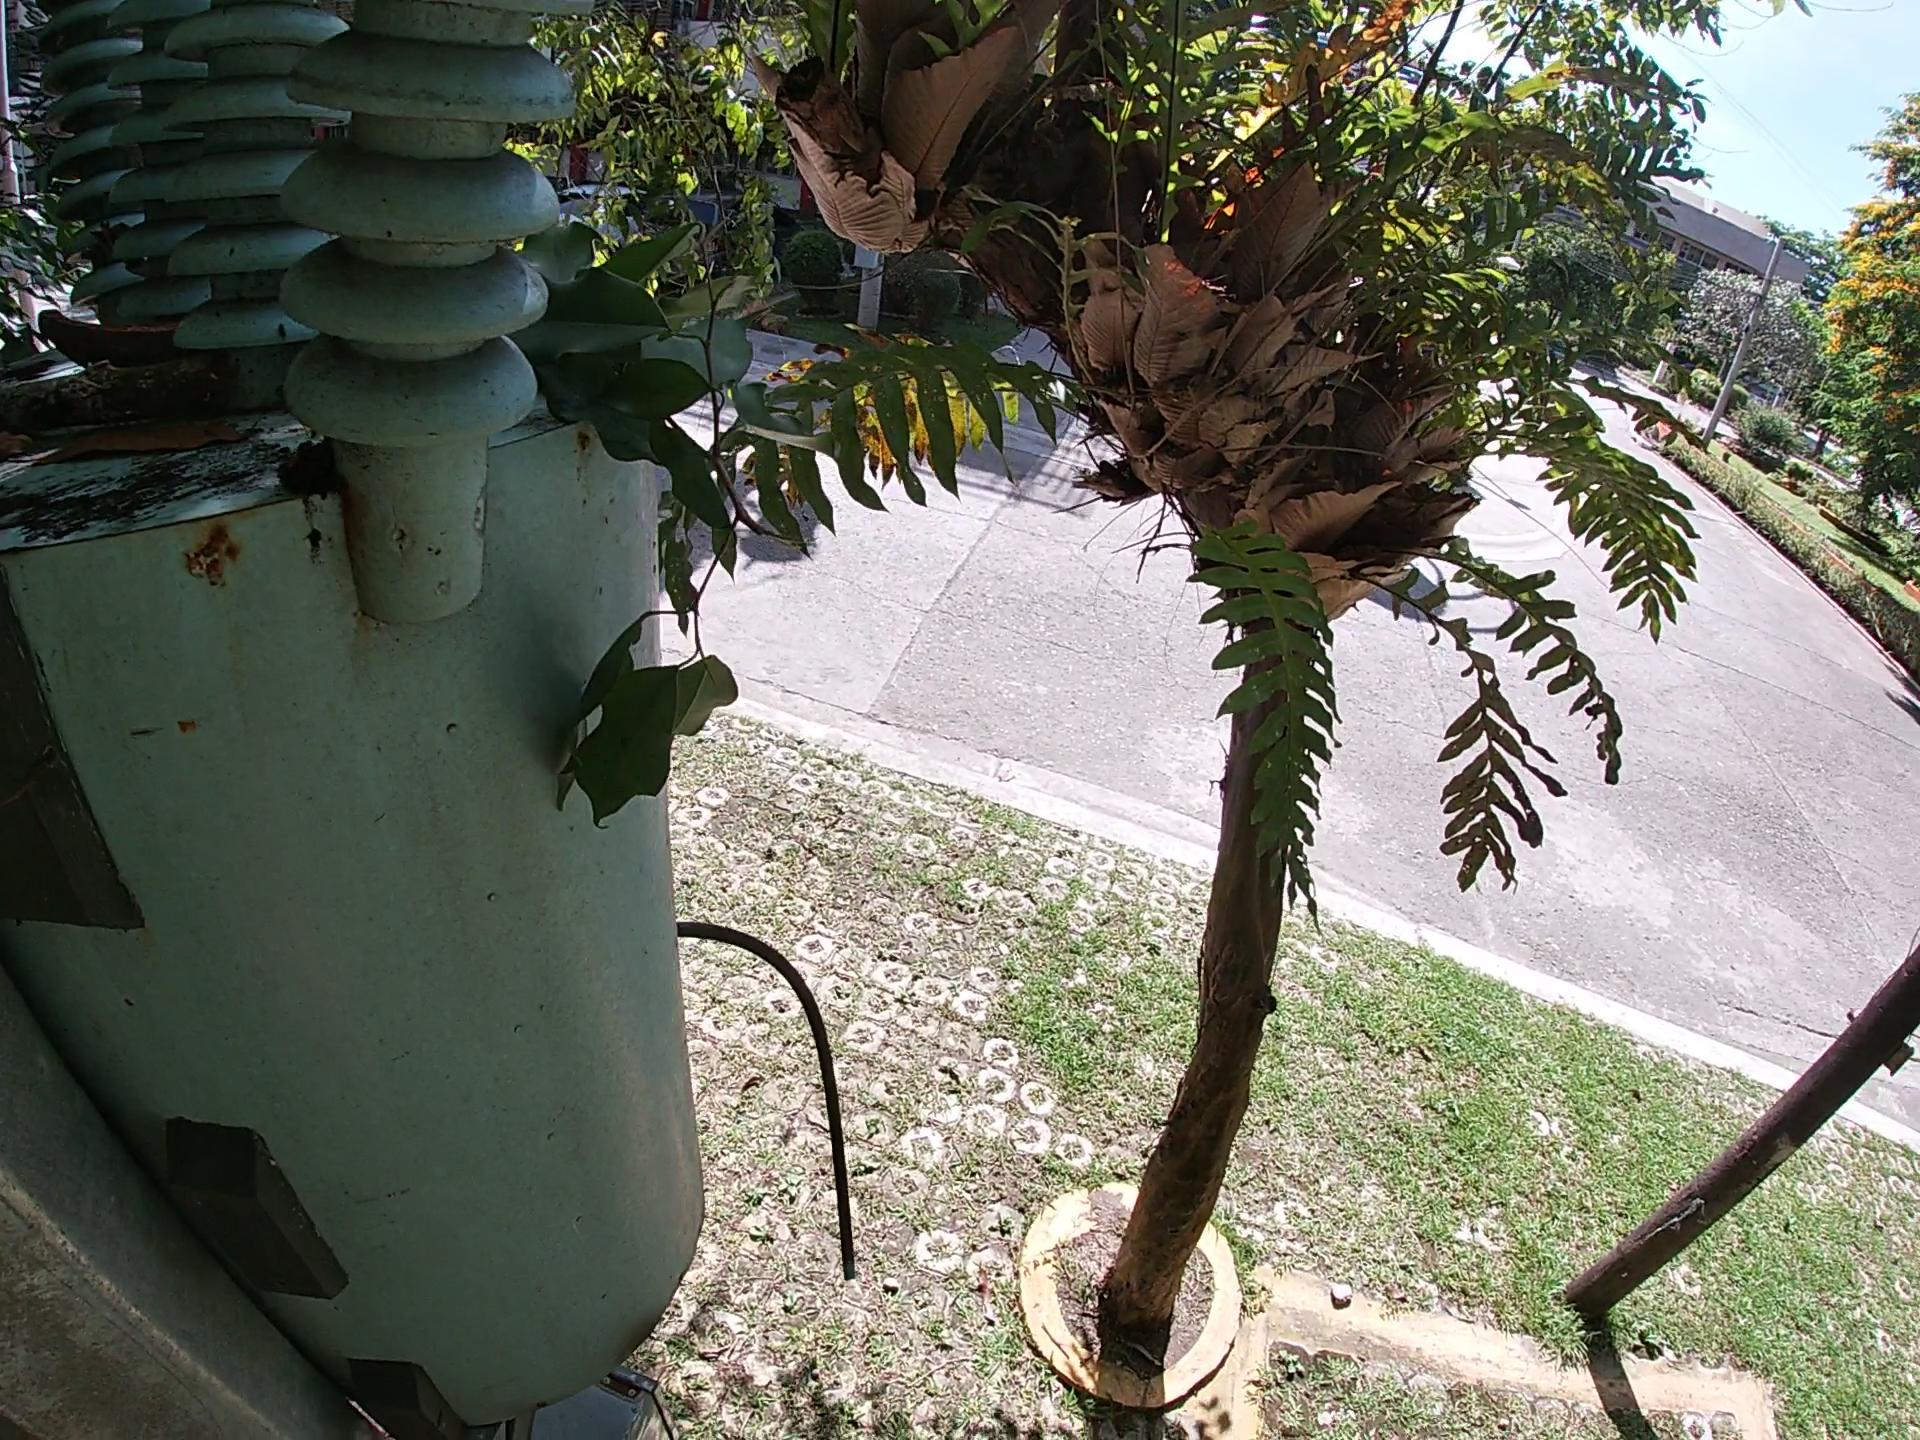branch with leaves: (463, 224, 754, 849)
leaf: (29, 430, 263, 458)
mahogany fruit: (26, 299, 221, 366)
tree branch: (3, 371, 197, 401)
